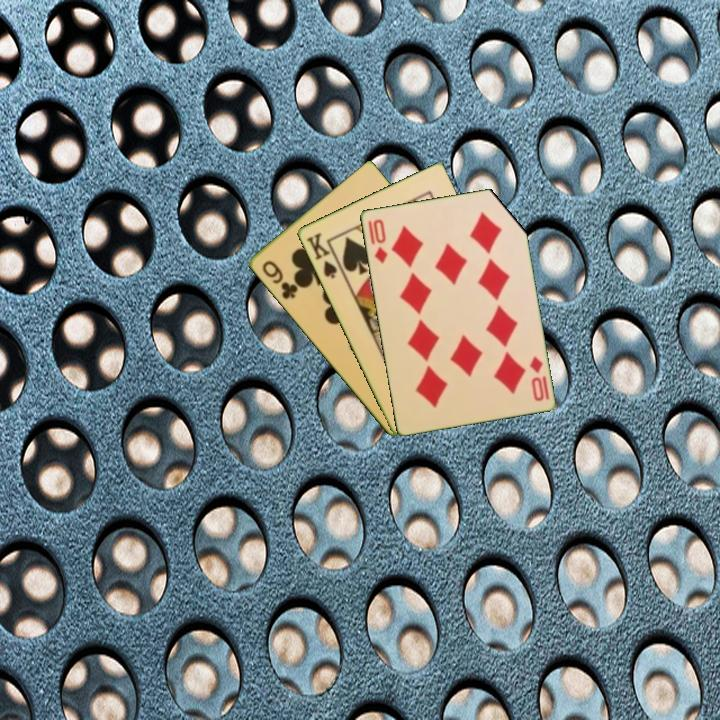10d: (526, 353, 552, 404), (369, 215, 390, 266)
9c: (258, 257, 300, 302)
Ks: (302, 229, 340, 281)
